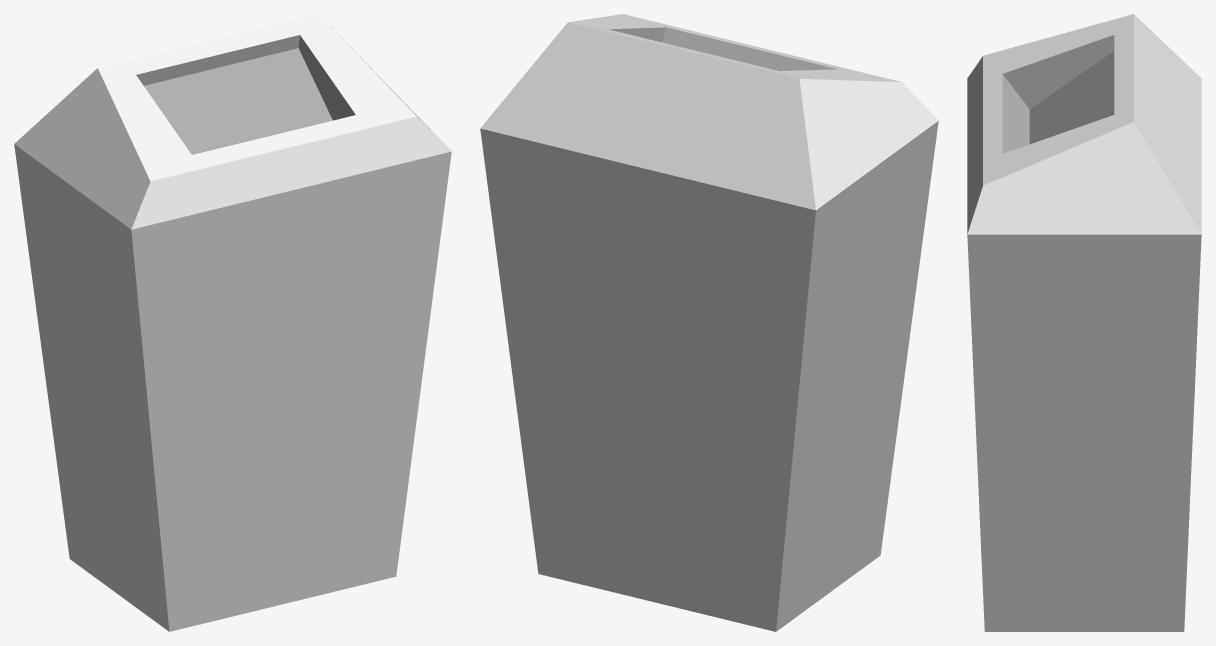
The model's file is dprop_trashBin.fbx.
3 views of the same model, side by side, from view 1: azimuth 30°, elevation 25°; view 2: azimuth 150°, elevation 25°; view 3: azimuth 270°, elevation 25° (orthographic). The views are drawn at different scales.
Parts seen in each view (by area): view 1: trashBin; view 2: trashBin; view 3: trashBin.
Part boxes in pixels (box(x1,y1,x2,y2)): trashBin: box(14, 14, 451, 631); trashBin: box(480, 14, 938, 631); trashBin: box(967, 14, 1201, 631).
Bounding box in the file's own units: 59.32 × 37.56 × 90.
